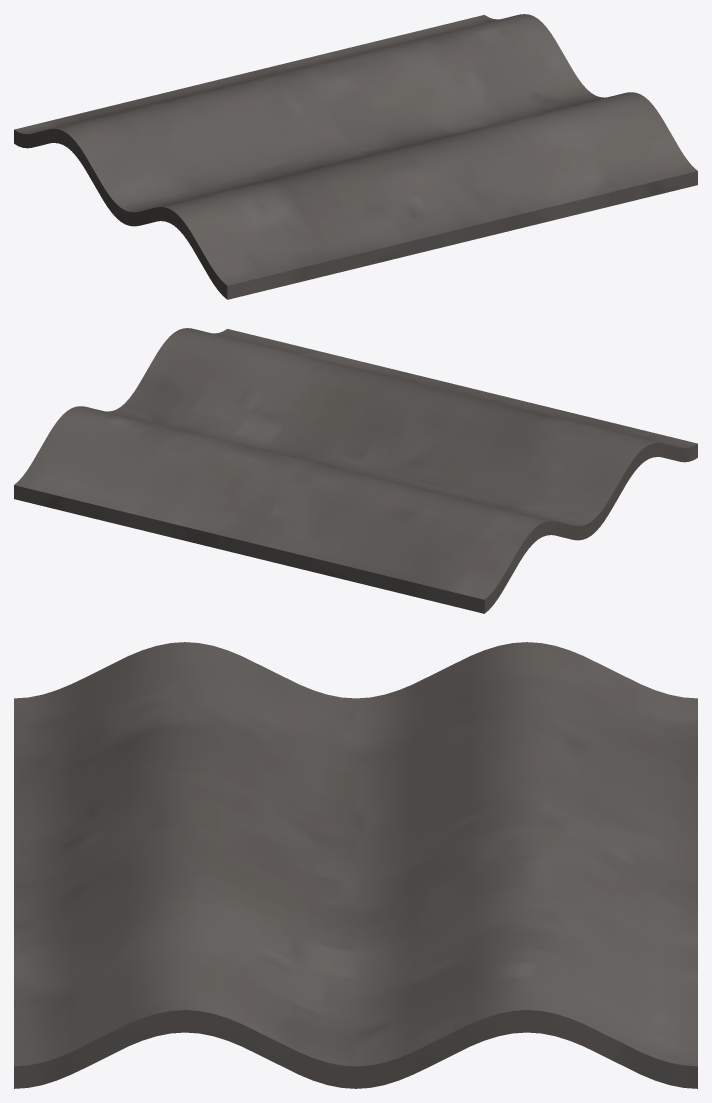
Rendered from COB-CER-005_lod1.glb.
3 views of the same model, one above another, from view 1: azimuth 30°, elevation 25°; view 2: azimuth 150°, elevation 25°; view 3: azimuth 270°, elevation 25° (orthographic). The views are drawn at different scales.
Visible parts, largest first — view 1: COB-CER-005_telha; view 2: COB-CER-005_telha; view 3: COB-CER-005_telha.
Boxes of the visible parts, x1=… form: COB-CER-005_telha: x1=14, y1=14, x2=697, y2=299; COB-CER-005_telha: x1=14, y1=328, x2=697, y2=613; COB-CER-005_telha: x1=14, y1=642, x2=697, y2=1088.
Bounding box in the file's own units: 0.42 × 0.042 × 0.33.
1 material, 1 textured.
